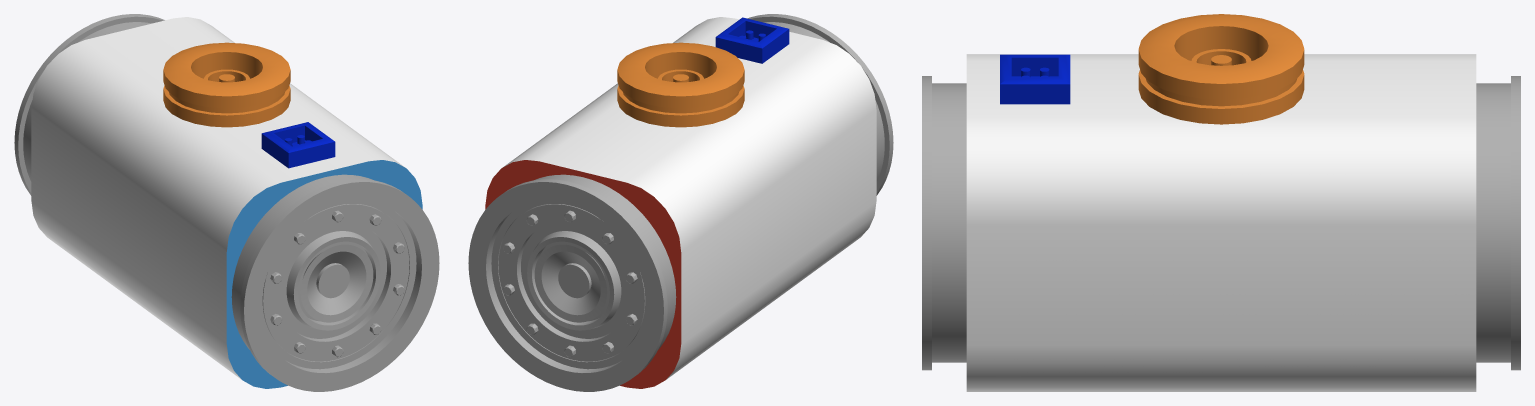
The model's file is TurboPump.gltf.
3 renders of one model, left to right at view 1: azimuth 30°, elevation 25°; view 2: azimuth 150°, elevation 25°; view 3: azimuth 270°, elevation 25°, orthographic. The views are drawn at different scales.
Visible parts, largest first — view 1: turbopump; view 2: turbopump; view 3: turbopump.
Boxes of the visible parts, left/top/right/bottom form: turbopump: left=14, top=14, right=439, bottom=391; turbopump: left=468, top=14, right=893, bottom=391; turbopump: left=922, top=14, right=1520, bottom=391.
Bounding box in the file's own units: 0.25 × 0.2917 × 0.5078.
